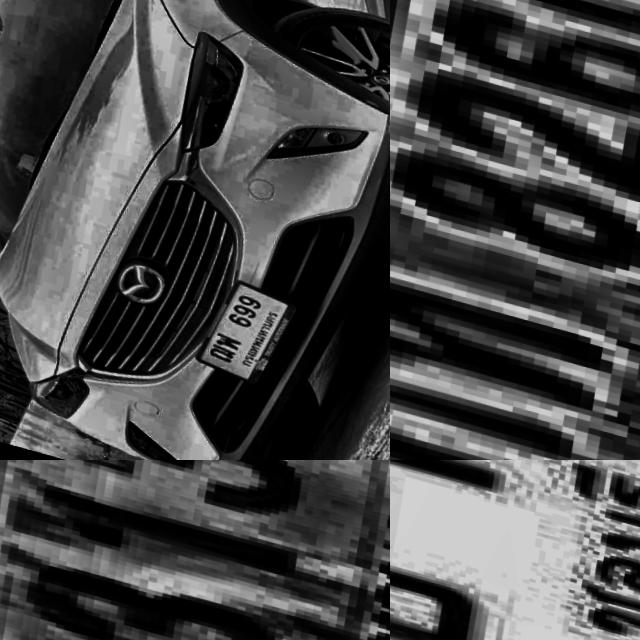license-plate: (390, 0, 640, 460), (0, 460, 390, 640), (390, 460, 640, 640), (182, 264, 300, 388)
